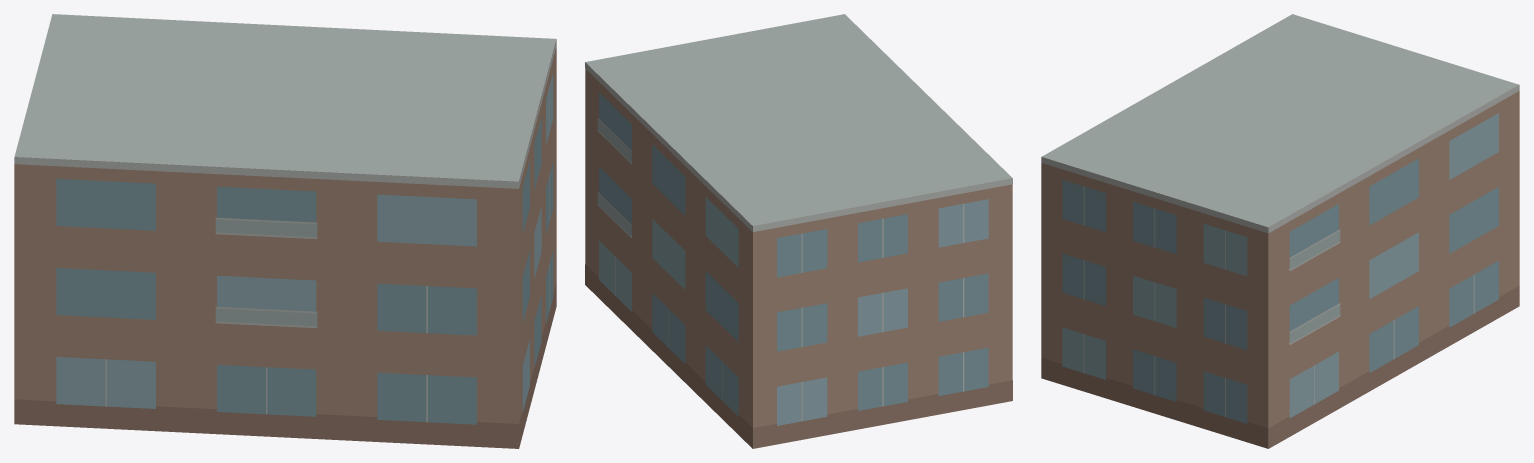
Rendered from survey-upis-32761254.glb.
3 views of the same model, side by side, from view 1: azimuth 30°, elevation 25°; view 2: azimuth 150°, elevation 25°; view 3: azimuth 270°, elevation 25° (orthographic). The views are drawn at different scales.
Parts seen in each view (by area): view 1: survey-upis-32761254.tmp; view 2: survey-upis-32761254.tmp; view 3: survey-upis-32761254.tmp.
Boxes of the visible parts, left/top/right/bottom form: survey-upis-32761254.tmp: left=14, top=14, right=556, bottom=448; survey-upis-32761254.tmp: left=585, top=14, right=1012, bottom=448; survey-upis-32761254.tmp: left=1041, top=14, right=1519, bottom=448.
Bounding box in the file's own units: 18.61 × 9 × 17.62.
